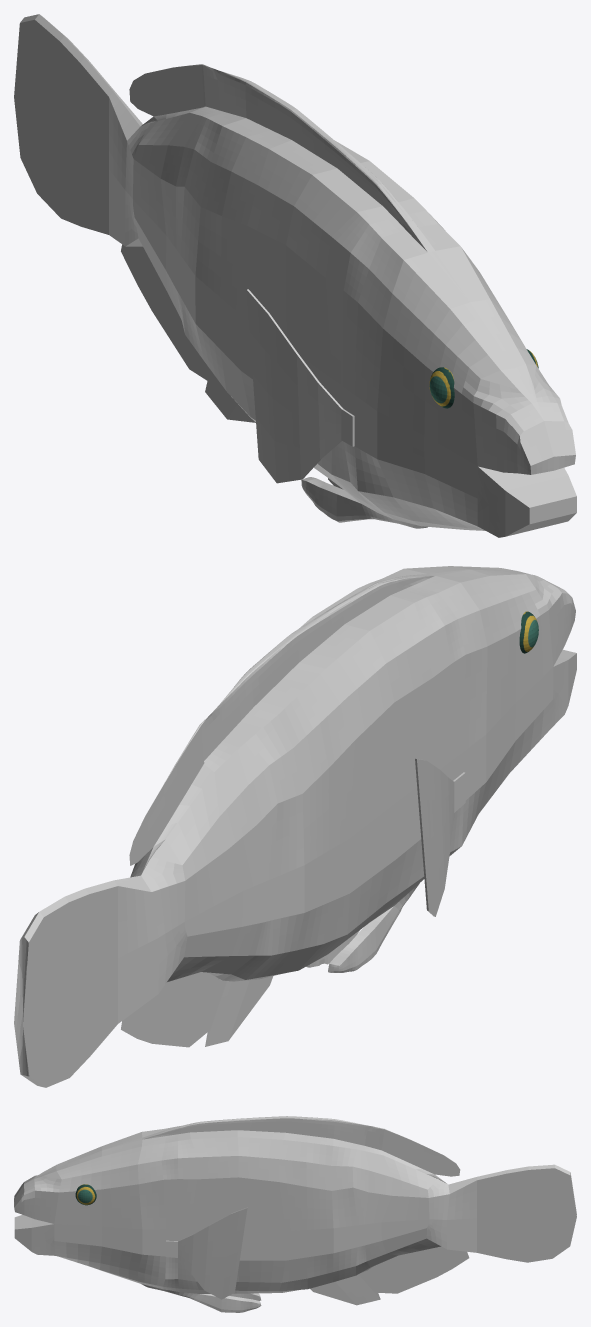
Rendered from parrotfish.fbx.
3 views of the same model, one above another, from view 1: azimuth 30°, elevation 25°; view 2: azimuth 150°, elevation 25°; view 3: azimuth 270°, elevation 25° (orthographic). The views are drawn at different scales.
Visible parts, largest first — view 1: Cube; view 2: Cube; view 3: Cube.
Part boxes in pixels (bbox=[...]): Cube: bbox=[14, 14, 576, 537]; Cube: bbox=[14, 566, 576, 1087]; Cube: bbox=[14, 1116, 576, 1312].
Size of the model in its own units: 0.3518 by 0.7212 by 1.92.
